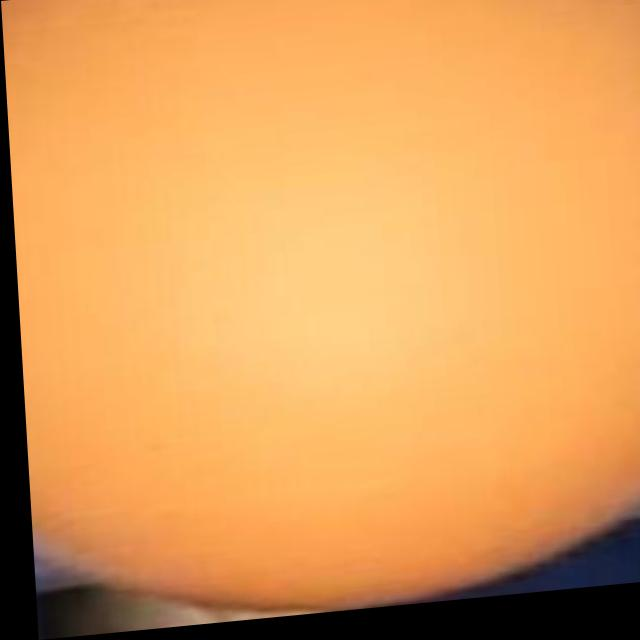fresh: (0, 0, 640, 638)
